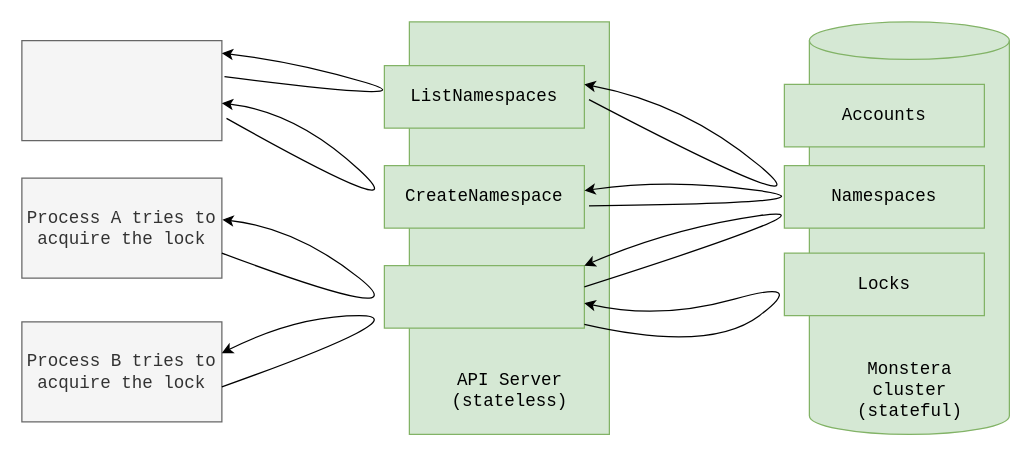
The diagram is 1031 pixels wide and 456 high, and some of its shapes have lost their labels. Each missing label, with the centre of its shape:
"AcquireLock" belongs at (x=483, y=296).
"User configures namespaces" belongs at (x=121, y=90).
